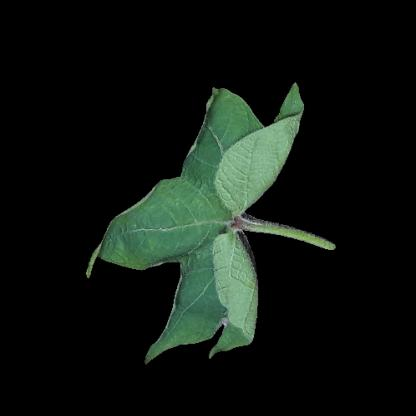curl_stage2: (133, 182, 197, 269), (186, 241, 242, 328), (202, 132, 279, 188), (201, 189, 253, 237), (267, 117, 300, 148)
